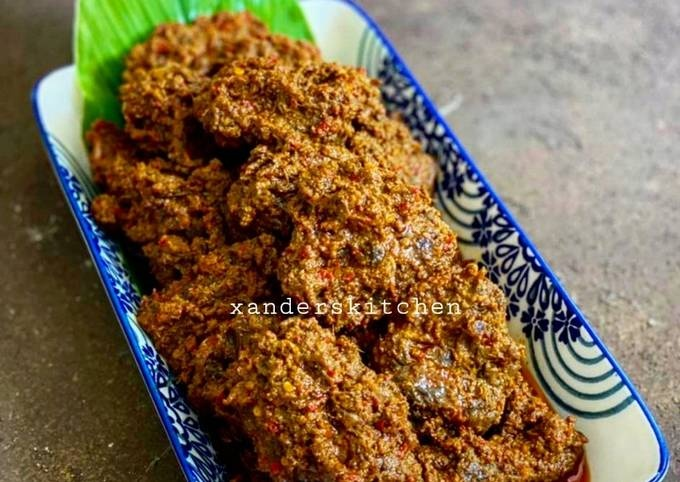rendang: (84, 14, 588, 482)
